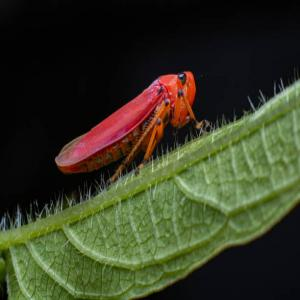locust: (51, 46, 219, 189)
